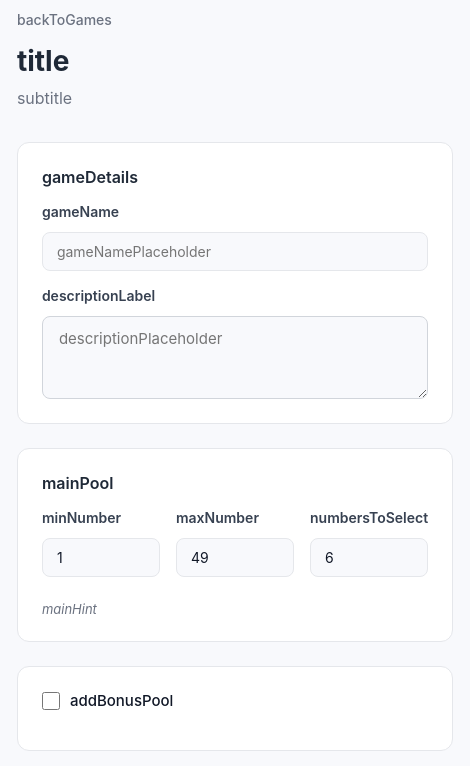
CreateGamePage › should show error for invalid number range (min >= max)
Type "Test Game" into the field labelled "gameName" at coordinates (235, 252), box 42,232 -> 428,271
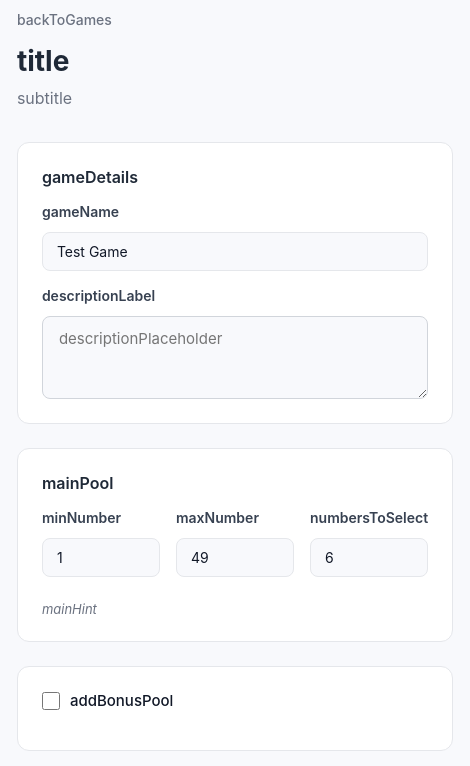
Replace the text in the number field labelled "minNumber" with "50" at coordinates (101, 558), box 42,538 -> 160,577
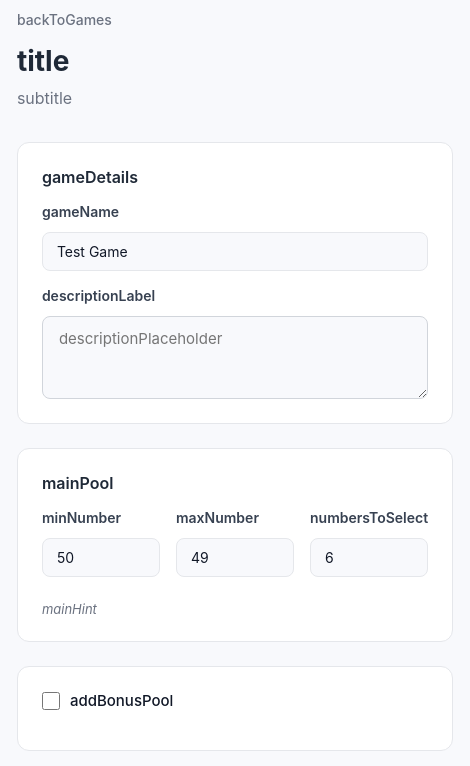
Replace the text in the number field labelled "maxNumber" with "10" at coordinates (235, 558), box 176,538 -> 294,577
(page scrolled)
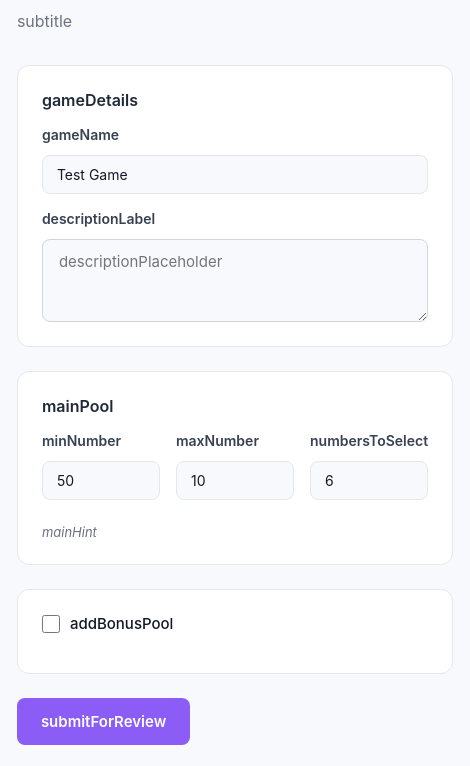
// Use form submit to trigger onSubmit handler
Submit the form
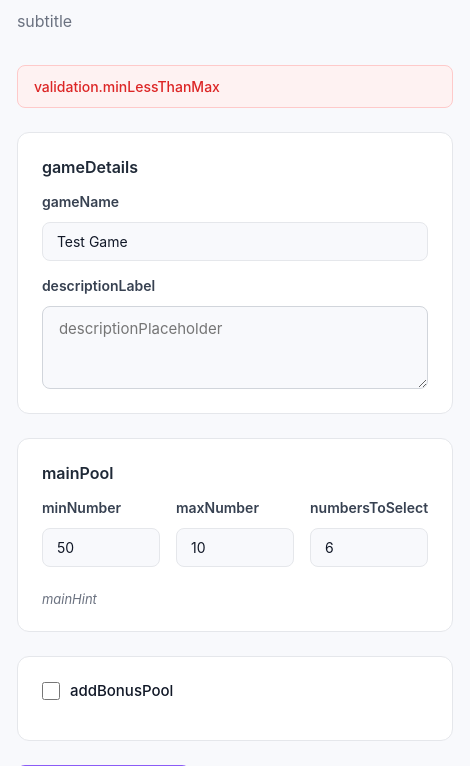
Expected: the message "validation.minLessThanMax" is shown, 17,65 -> 453,108
Expected: the message reads "validation.minLessThanMax", 34,78 -> 220,95
